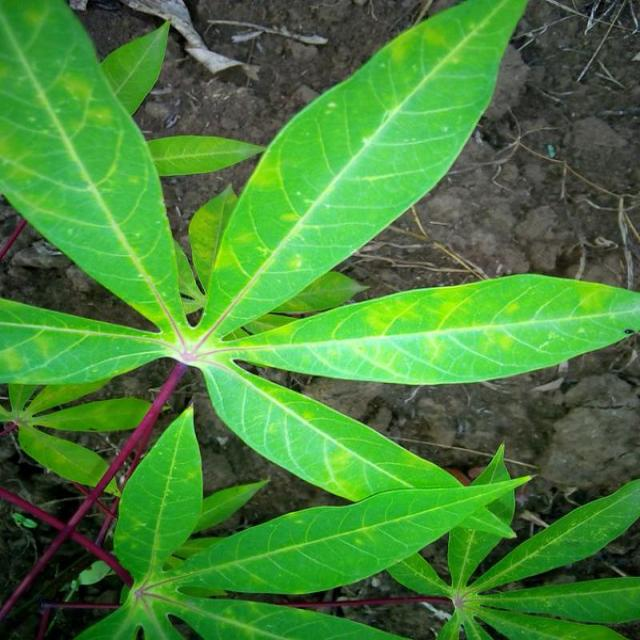cassava leaf: (2, 1, 639, 637), (197, 0, 532, 341), (1, 0, 188, 336), (218, 271, 640, 386)
